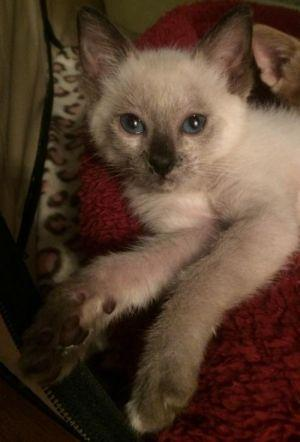siamese: (67, 1, 264, 206)
